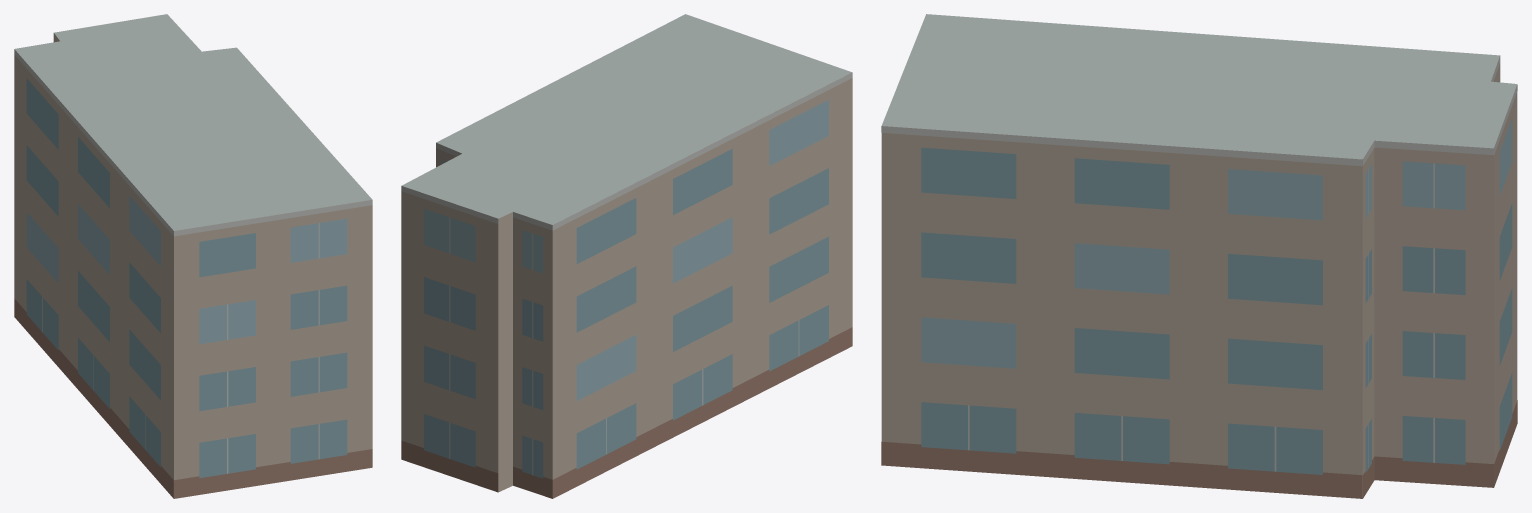
Rendered from survey-upis-32663471.glb.
3 views of the same model, side by side, from view 1: azimuth 30°, elevation 25°; view 2: azimuth 150°, elevation 25°; view 3: azimuth 270°, elevation 25° (orthographic). The views are drawn at different scales.
Parts seen in each view (by area): view 1: survey-upis-32663471.tmp; view 2: survey-upis-32663471.tmp; view 3: survey-upis-32663471.tmp.
Boxes of the visible parts, x1,y1,x2,y2 form: survey-upis-32663471.tmp: (14, 14, 372, 498); survey-upis-32663471.tmp: (401, 14, 852, 498); survey-upis-32663471.tmp: (881, 14, 1517, 498).
Bounding box in the file's own units: 11.22 × 12.2 × 20.73.
